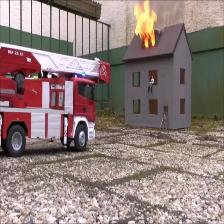fire: (132, 1, 158, 50)
